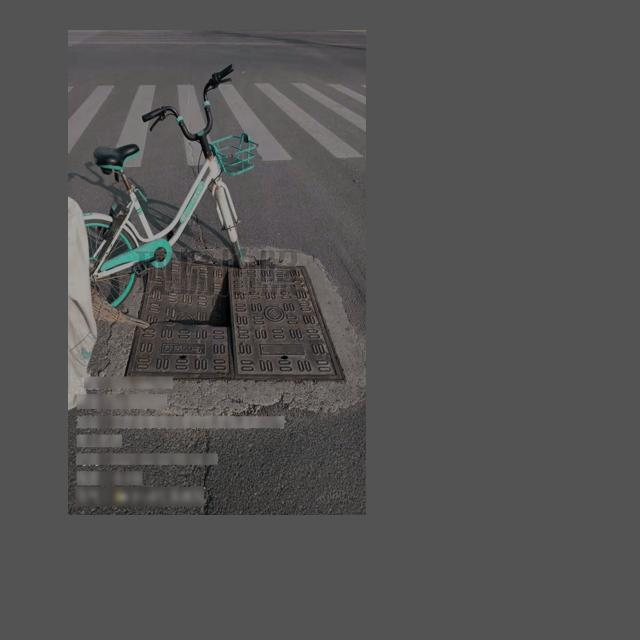broke: (122, 254, 346, 382)
